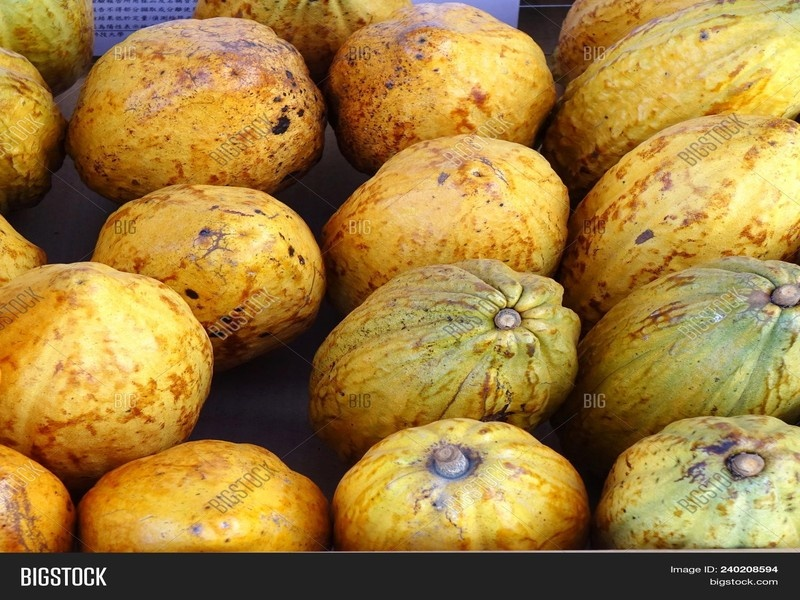Cacaopod: (313, 275, 591, 453), (68, 14, 337, 193), (3, 260, 225, 461), (88, 175, 330, 358), (337, 130, 578, 310), (594, 257, 800, 435), (577, 5, 800, 159), (317, 4, 562, 143), (591, 136, 800, 287)
